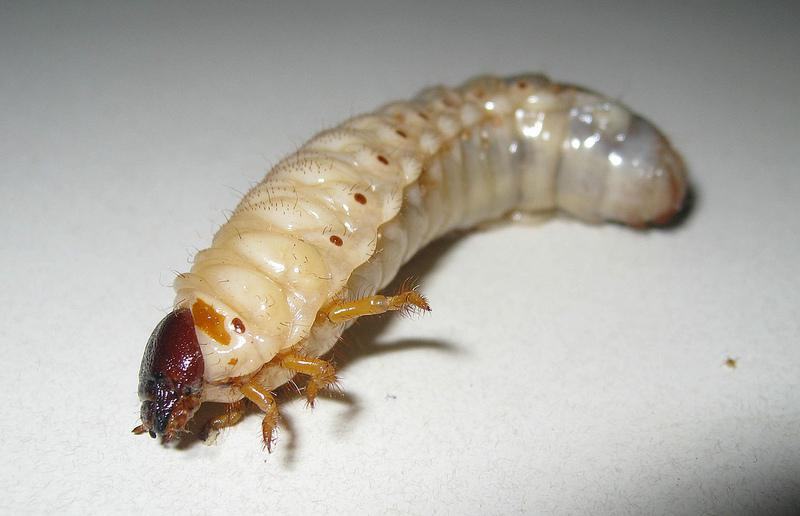grub: (130, 67, 711, 463)
